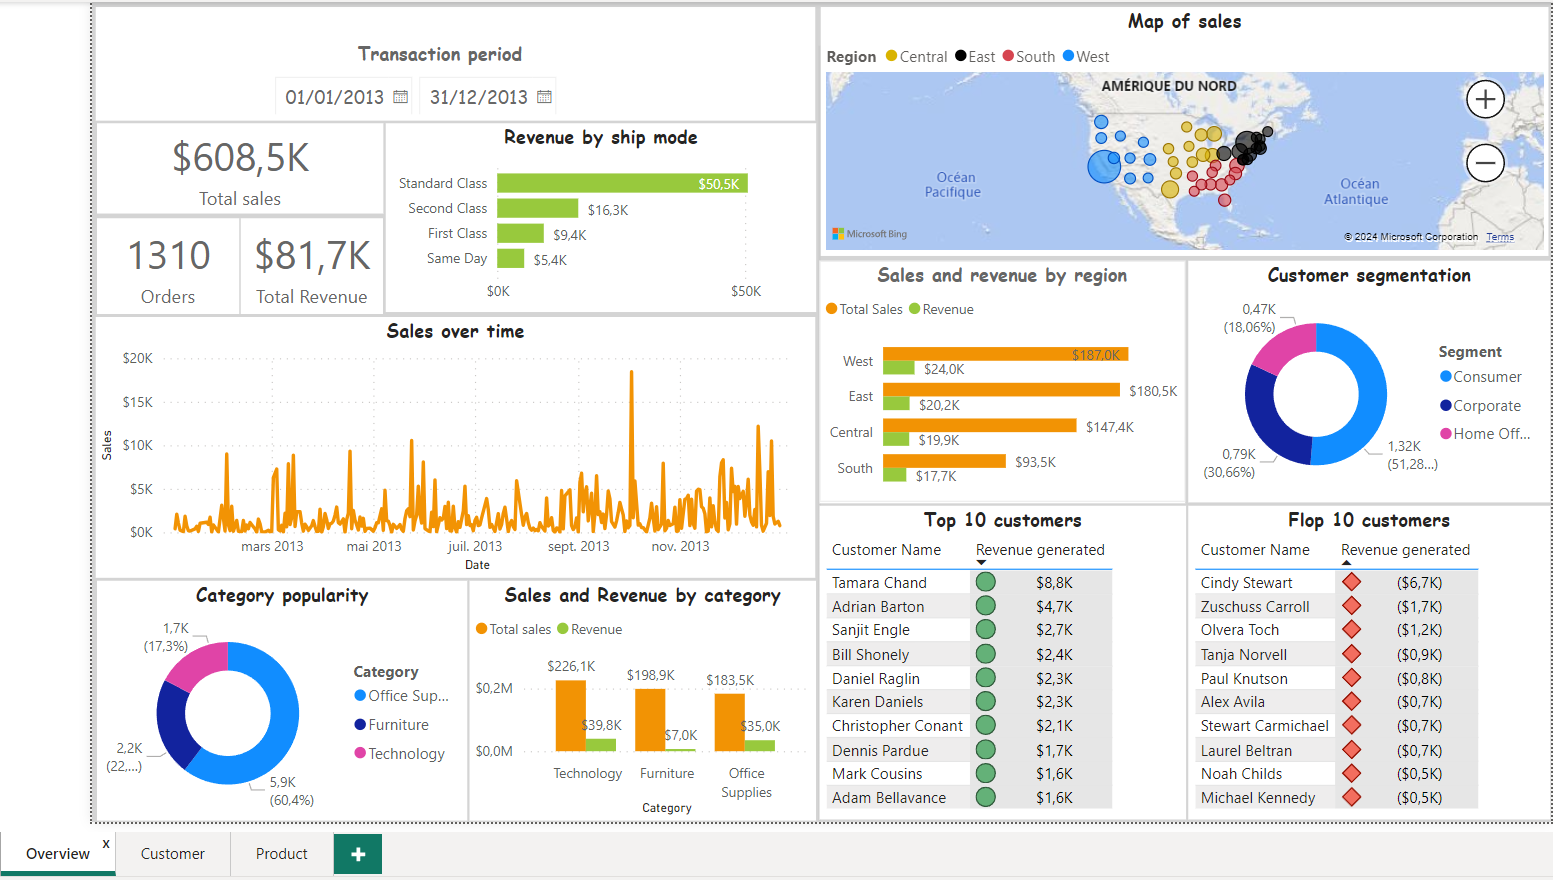

What the dashboard file says about the page in this screenshot:
{"tool":"powerbi","page":{"name":"Overview","canvas":[1280,720],"ordinal":0},"visuals":[{"type":"shape","box":[3.9,38.2,631.6,65.8],"z":0},{"type":"lineChart","title":"Sales over time","fields":{"Y":["Superstore.Sales"],"Category":["Superstore.Order Date"]},"box":[3.6,275.9,631.3,228.9],"z":1000},{"type":"donutChart","title":"Category popularity","fields":{"Category":["Superstore.Category"],"Y":["Superstore.Quantity"]},"box":[3.9,507.9,325,210.5],"z":2000},{"type":"slicer","title":"Transaction period","fields":{"Values":["Superstore.Order Date"]},"box":[148.7,35.5,314.5,65.8],"z":3000},{"type":"shape","box":[631.6,38.2,13.2,680.3],"z":4000},{"type":"card","fields":{"Values":["Superstore.Sales"]},"box":[4,106.8,251.1,79.6],"z":5000},{"type":"card","fields":{"Values":["Superstore.Order ID"]},"box":[3.9,189.5,125,84.2],"z":6000},{"type":"card","fields":{"Values":["Superstore.Profit"]},"box":[130.3,189.5,125,84.2],"z":7000},{"type":"barChart","title":"Sales and revenue by region","fields":{"Category":["Superstore.Region"],"Y":["Superstore.Sales","Superstore.Profit"]},"box":[257.9,106.6,377.6,167.1],"z":8000},{"type":"clusteredColumnChart","title":"Sales and Revenue by category","fields":{"Category":["Superstore.Category"],"Y":["Superstore.Sales","Superstore.Profit"]},"box":[331.6,507.9,303.9,210.5],"z":9000},{"type":"tableEx","title":"Top 10 customers","fields":{"Values":["Superstore.Customer Name","Superstore.Profit"]},"box":[640.3,441.7,318.1,276.4],"z":10000},{"type":"tableEx","title":"Flop 10 customers","fields":{"Values":["Superstore.Customer Name","Superstore.Profit"]},"box":[961.1,441.7,318.1,276.4],"z":11000},{"type":"columnChart","title":"Loss by sub category","fields":{"Category":["Superstore.Sub-Category"],"Y":["Superstore.Profit"]},"box":[639.8,230.1,638.6,209.6],"z":12000},{"type":"donutChart","title":"Customer segmentation","fields":{"Category":["Superstore.Segment"],"Y":["Superstore.Segment"]},"box":[639.8,38.6,347,189.2],"z":12001},{"type":"clusteredColumnChart","title":"Revenue by ship mode","fields":{"Category":["Superstore.Ship Mode"],"Y":["Superstore.Profit"]},"box":[988,38.6,291.6,189.2],"z":12002}]}

Visuals, with their boxes on the page's 1280x720 design canvas (x1, y1, x2, y2). These are canvas units, not pixel positions in the 1553x880 screenshot, which may show the page scaled, cropped or inside an application window:
shape: (4,38,636,104)
"Sales over time" lineChart: (4,276,635,505)
"Category popularity" donutChart: (4,508,329,718)
"Transaction period" slicer: (149,36,463,101)
shape: (632,38,645,718)
card - Superstore.Sales: (4,107,255,186)
card - Superstore.Order ID: (4,190,129,274)
card - Superstore.Profit: (130,190,255,274)
"Sales and revenue by region" barChart: (258,107,636,274)
"Sales and Revenue by category" clusteredColumnChart: (332,508,636,718)
"Top 10 customers" tableEx: (640,442,958,718)
"Flop 10 customers" tableEx: (961,442,1279,718)
"Loss by sub category" columnChart: (640,230,1278,440)
"Customer segmentation" donutChart: (640,39,987,228)
"Revenue by ship mode" clusteredColumnChart: (988,39,1280,228)
